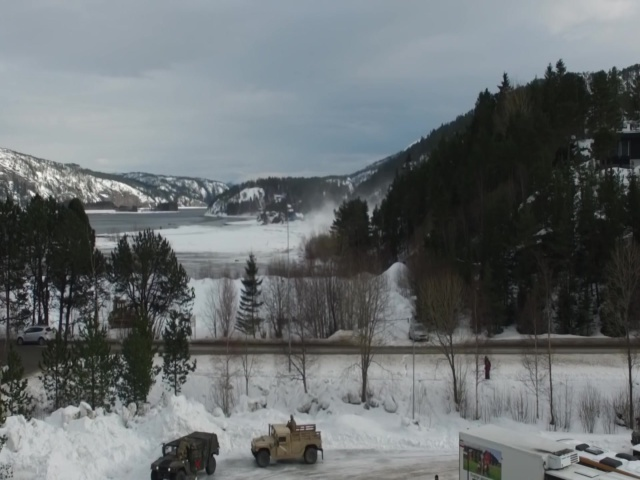person: (481, 353, 493, 381)
vehicle: (147, 428, 221, 480), (248, 421, 325, 467)
